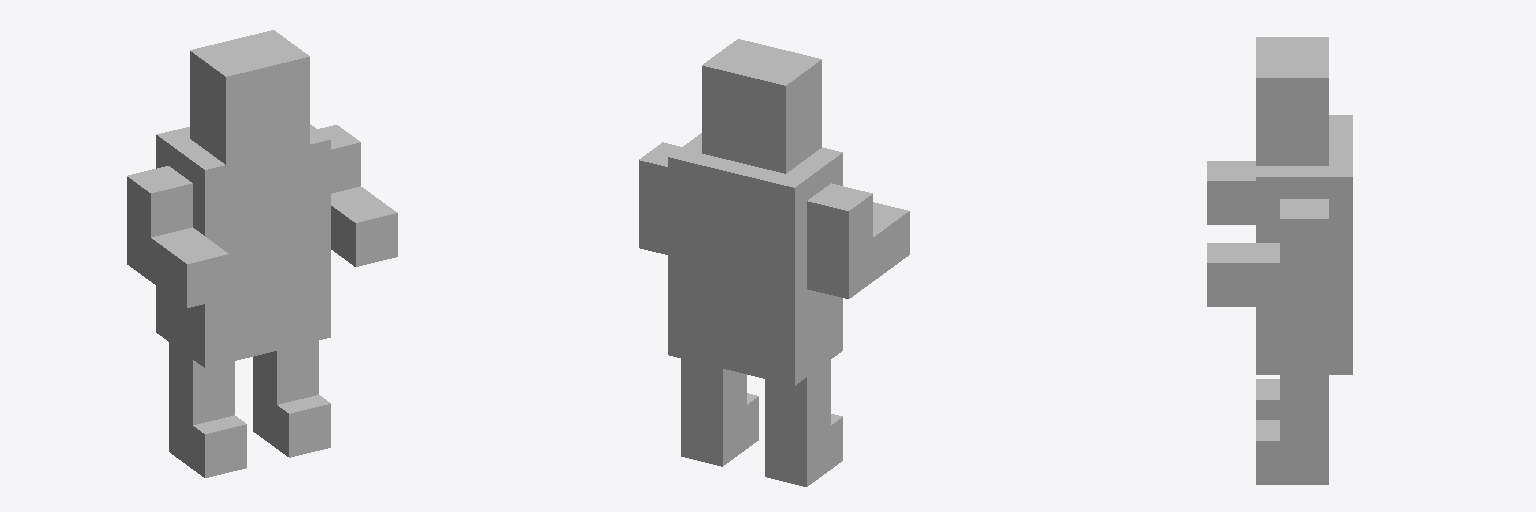
3 views of the same model, side by side, from view 1: azimuth 30°, elevation 25°; view 2: azimuth 150°, elevation 25°; view 3: azimuth 270°, elevation 25° (orthographic).
Visible parts, largest first — view 1: Zombie; view 2: Zombie; view 3: Zombie.
Boxes of the visible parts, <box> form: Zombie: <box>127,30,397,477</box>; Zombie: <box>639,39,909,486</box>; Zombie: <box>1207,37,1352,484</box>.
Bounding box in the file's own units: 0.625 × 1.12 × 0.375.